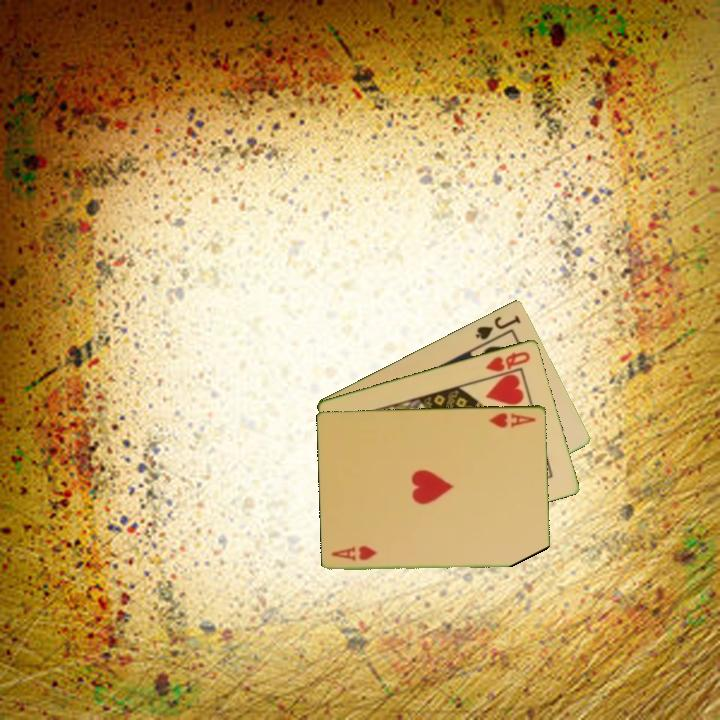Ah: (486, 409, 539, 431), (328, 545, 380, 564)
Js: (472, 311, 524, 343)
Qh: (482, 348, 533, 374)
